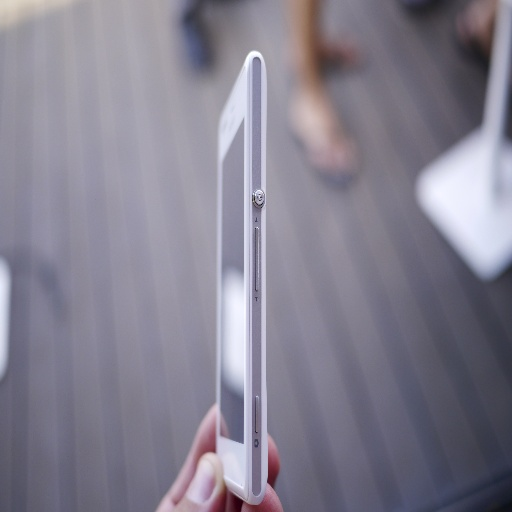hand: (152, 403, 285, 511)
